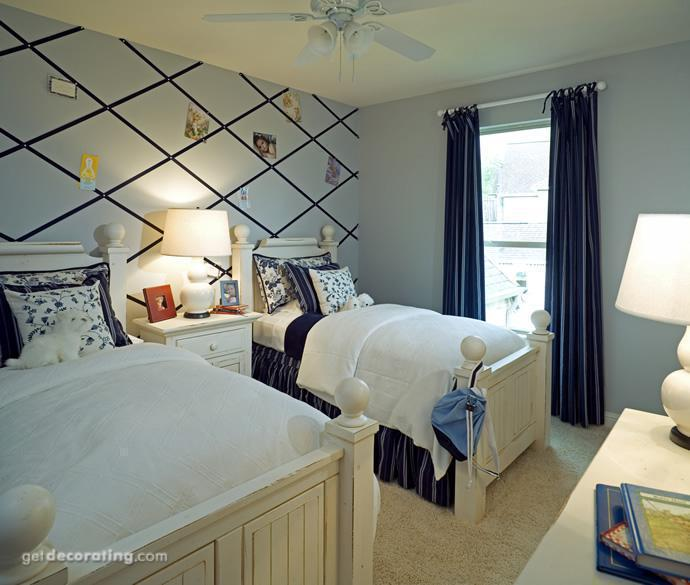Cama: (2, 229, 380, 576), (238, 229, 565, 505)
Ventana: (452, 120, 590, 322)
